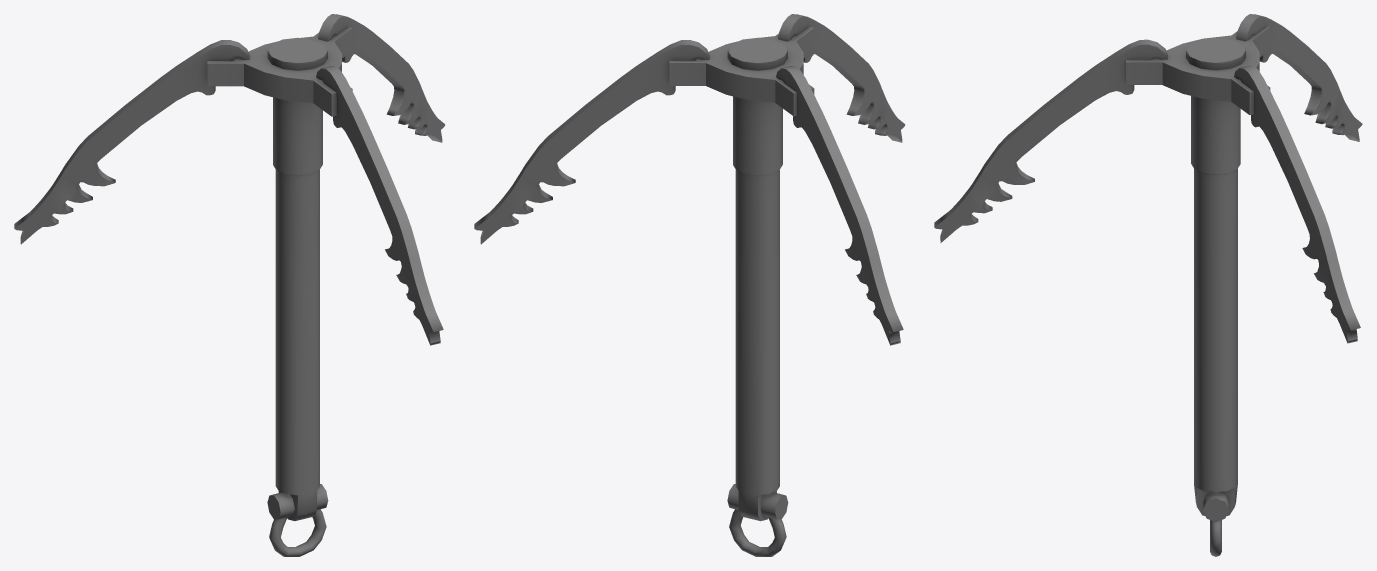
File: GrappleHook.fbx
The picture shows the model from 3 angles, left to right: view 1: azimuth 30°, elevation 25°; view 2: azimuth 150°, elevation 25°; view 3: azimuth 270°, elevation 25°; orthographic projection.
Parts seen in each view (by area): view 1: Grapplehook; view 2: Grapplehook; view 3: Grapplehook.
Part boxes in pixels (x1=…): Grapplehook: x1=14, y1=14, x2=445, y2=556; Grapplehook: x1=474, y1=14, x2=905, y2=556; Grapplehook: x1=934, y1=14, x2=1362, y2=556.
Size of the model in its own units: 12.46 by 14.22 by 10.81.
